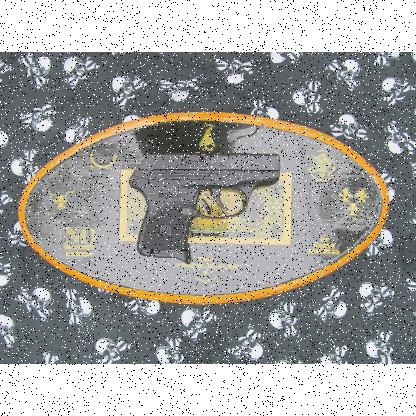gun: (128, 152, 280, 264)
